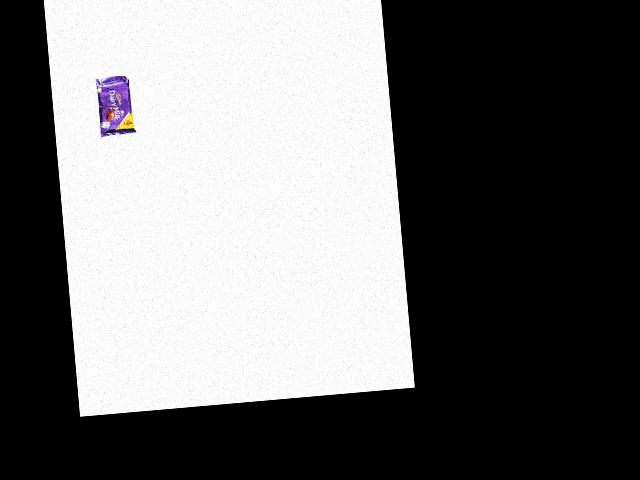chocolate: (90, 73, 136, 144)
